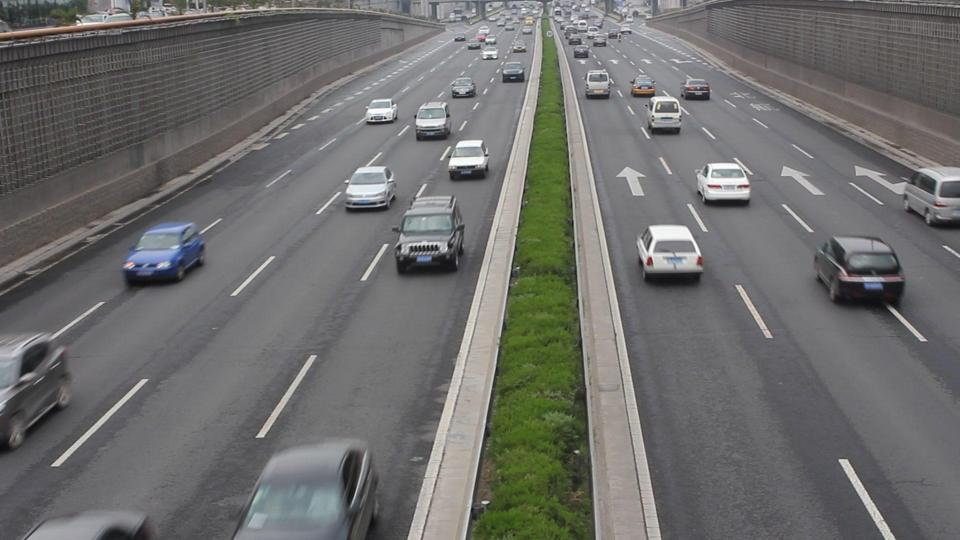Car: (246, 441, 376, 540), (1, 331, 69, 444), (811, 233, 903, 304), (394, 194, 463, 273), (124, 219, 204, 283), (634, 223, 701, 279), (694, 162, 748, 203), (344, 165, 394, 209), (447, 139, 489, 179), (365, 97, 399, 123)
Minivan: (901, 167, 960, 222), (412, 100, 450, 140), (646, 96, 680, 132)
